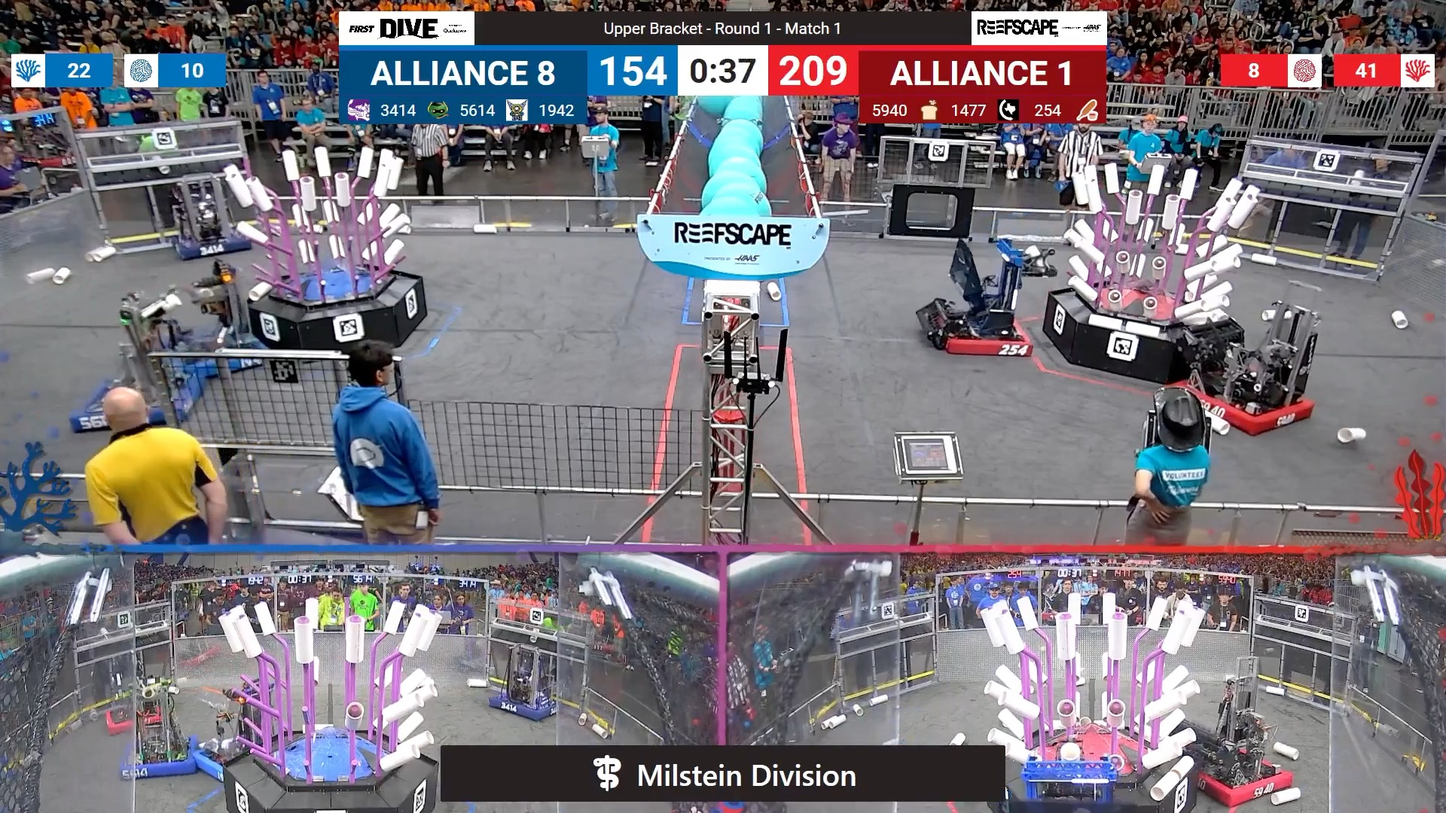bumpers: (1172, 372, 1326, 440), (71, 370, 214, 438), (922, 307, 1040, 367), (1183, 755, 1299, 811), (161, 336, 274, 384), (118, 734, 216, 787), (168, 223, 269, 260), (488, 691, 568, 727), (97, 701, 176, 737)
